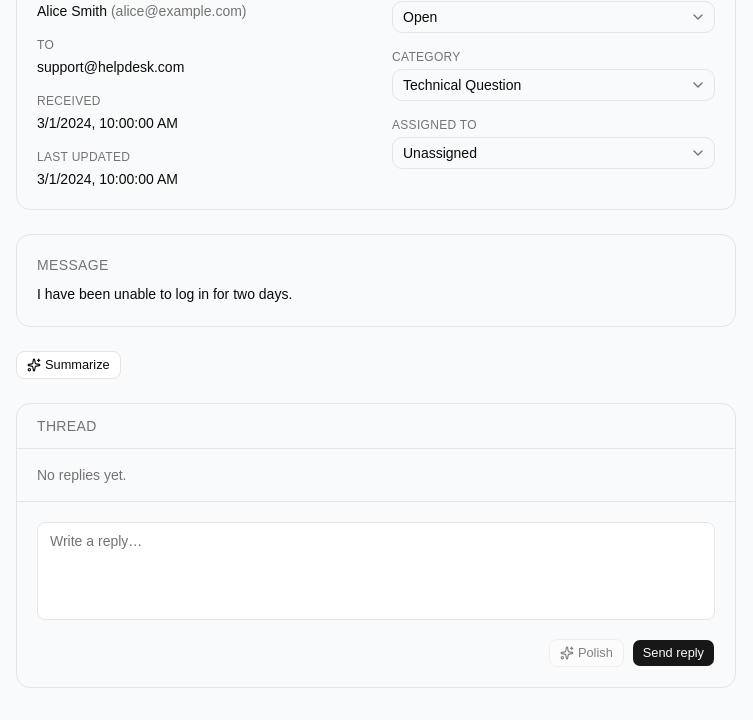
it: TicketDetailPage › reply form › shows an error when the reply POST fails
The width and height of the screenshot is (753, 720).
(page scrolled)
Type "Some reply" into the text box with placeholder "Write a reply…" at (376, 571), box [37,522,715,620]
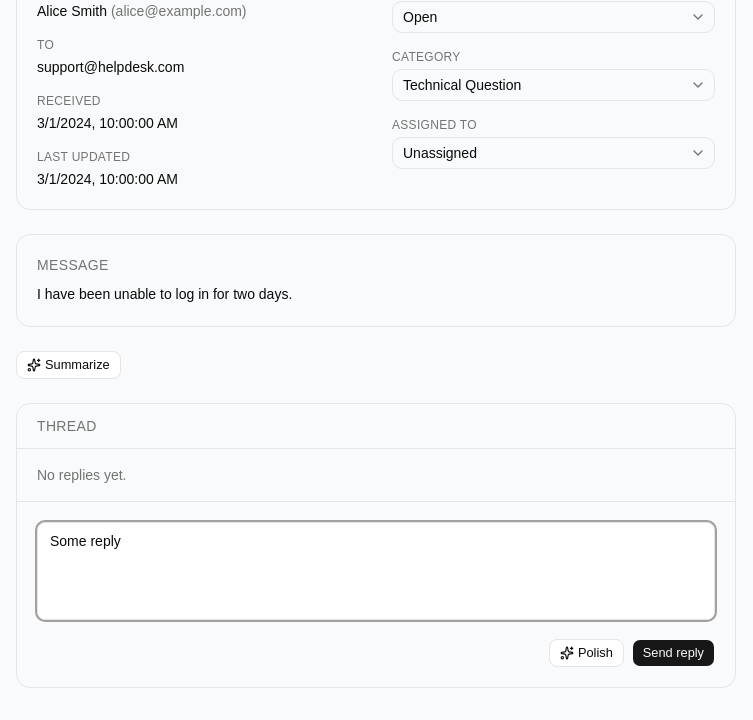
Click the button "Send reply" at (673, 653), box [632,639,715,667]
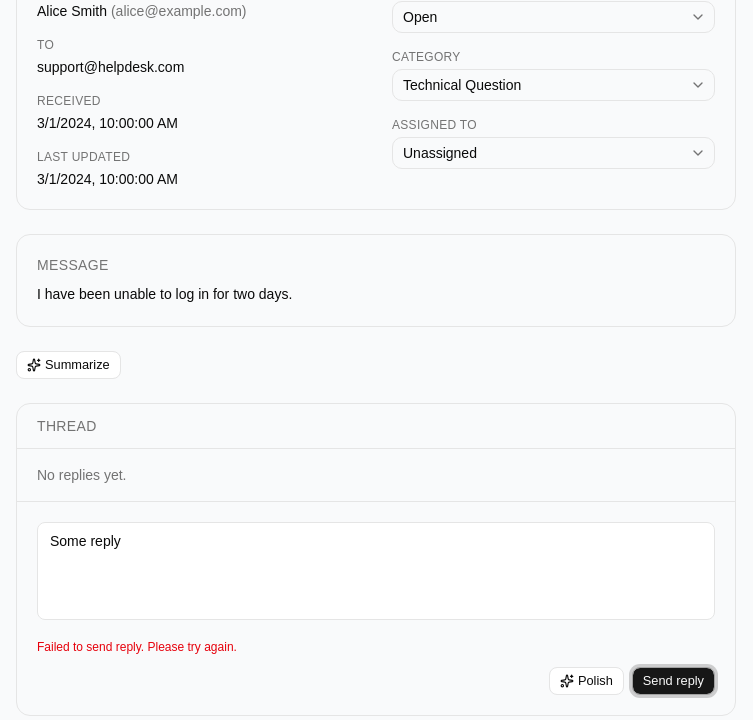
Result: the text "Failed to send reply. Please try again." is shown at [37,640,237,654]
